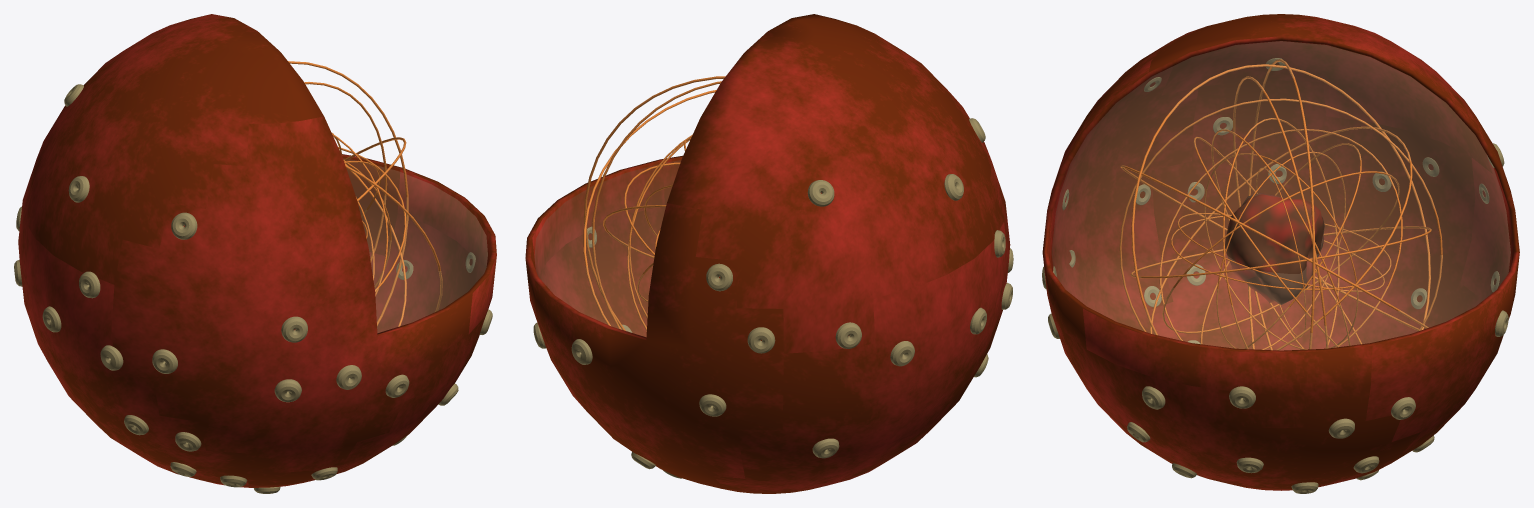
File: nucleus.glb
3 views of the same model, side by side, from view 1: azimuth 30°, elevation 25°; view 2: azimuth 150°, elevation 25°; view 3: azimuth 270°, elevation 25° (orthographic).
Parts seen in each view (by area): view 1: Material_001-material, Material_004-material (×3), gel-material, Material_003-material; view 2: Material_001-material, gel-material, Material_004-material (×3), Material_003-material; view 3: Material_001-material, gel-material, Material_003-material, Material_004-material (×3), Material_002-material.
Part boxes in pixels (x1,y1,x2,y2): Material_001-material: (18, 14, 496, 487); Material_004-material (×3): (14, 84, 492, 493); gel-material: (343, 158, 487, 332); Material_003-material: (288, 61, 442, 326); Material_001-material: (525, 14, 1010, 493); gel-material: (535, 160, 680, 336); Material_004-material (×3): (533, 118, 1013, 478); Material_003-material: (583, 76, 725, 330); Material_001-material: (1042, 14, 1519, 490); gel-material: (1052, 41, 1510, 350); Material_003-material: (1119, 59, 1442, 350); Material_004-material (×3): (1042, 58, 1508, 493); Material_002-material: (1225, 192, 1324, 304).
Size of the model in its own units: 2.02 by 2 by 2.
Materials: 5 (2 with a texture image).
